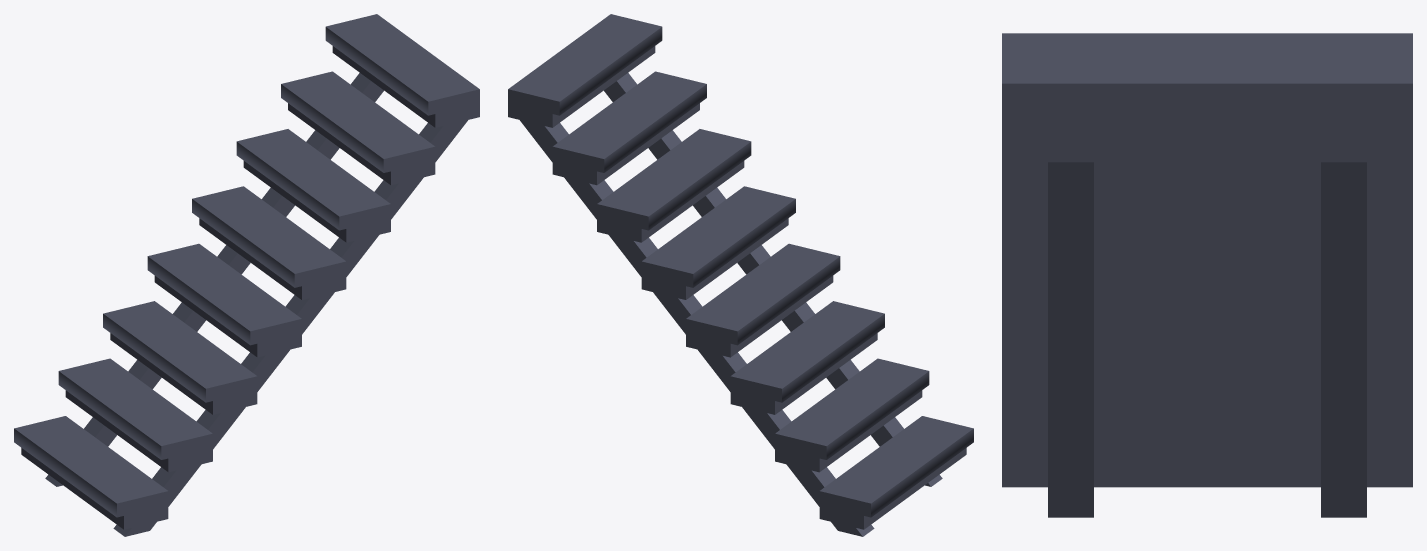
The model's file is stairs-wood.glb.
3 views of the same model, side by side, from view 1: azimuth 30°, elevation 25°; view 2: azimuth 150°, elevation 25°; view 3: azimuth 270°, elevation 25° (orthographic). The views are drawn at different scales.
Visible parts, largest first — view 1: stairs-wood; view 2: stairs-wood; view 3: stairs-wood.
Part boxes in pixels (x1=…): stairs-wood: x1=14, y1=14, x2=479, y2=536; stairs-wood: x1=508, y1=14, x2=973, y2=536; stairs-wood: x1=1002, y1=33, x2=1412, y2=517.
Size of the model in its own units: 1.02 by 1 by 0.5.
1 material, 1 textured.
